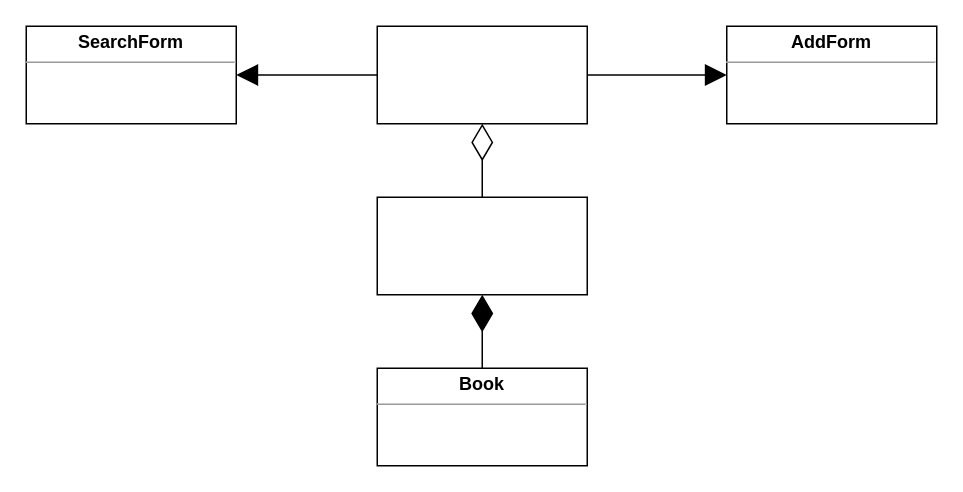
The diagram is 963 pixels wide and 492 high, and some of its shapes have lost their labels. The centre of each missing label's shape, as x and y in pixels:
"BooksData" goes at point 481,245.
"MainForm" goes at point 481,74.
